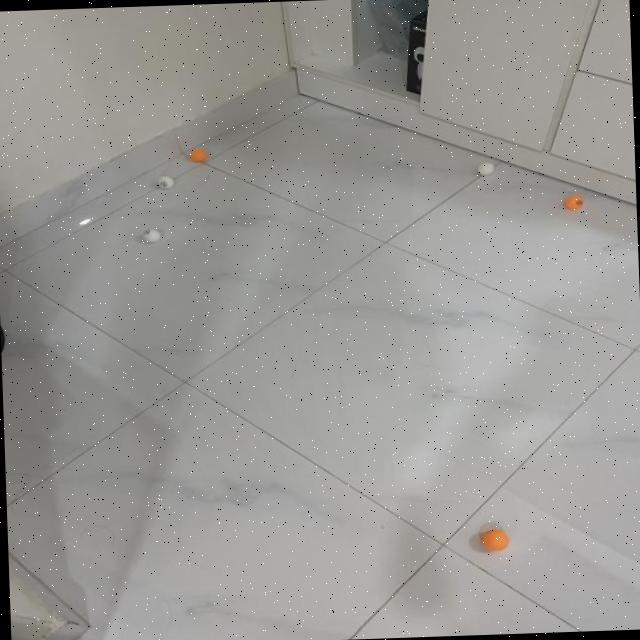ping-pong-ball: (476, 528, 508, 554), (558, 187, 587, 209), (138, 224, 166, 246), (154, 172, 178, 191), (475, 162, 498, 176), (190, 146, 208, 162)
